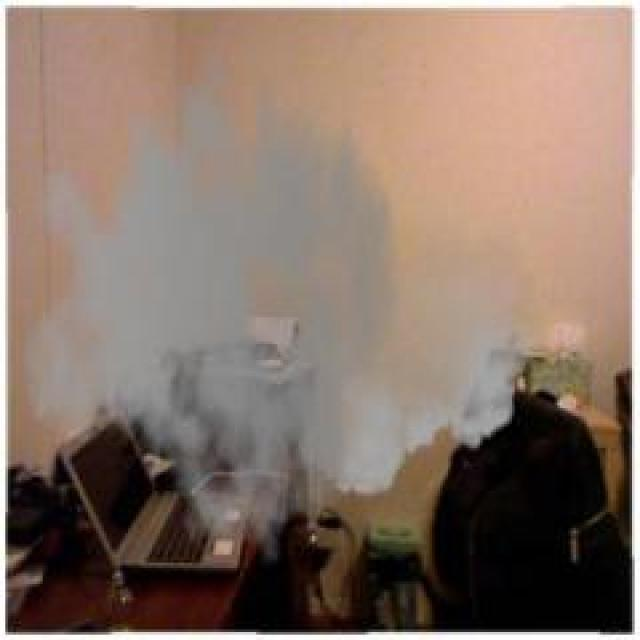smoke: (20, 18, 543, 566)
